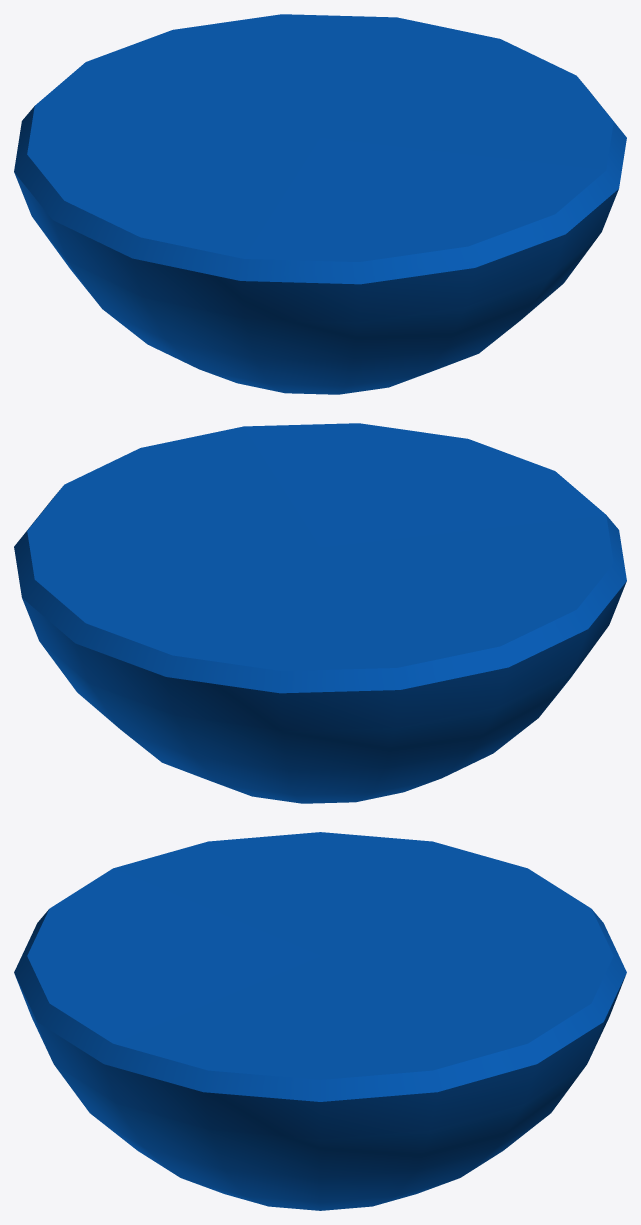
The model's file is Leg_03.fbx.
The picture shows the model from 3 angles, top to bottom: view 1: azimuth 30°, elevation 25°; view 2: azimuth 150°, elevation 25°; view 3: azimuth 270°, elevation 25°; orthographic projection.
Visible parts, largest first — view 1: Leg_03; view 2: Leg_03; view 3: Leg_03.
Boxes of the visible parts, x1,y1,x2,y2 form: Leg_03: [14, 14, 626, 394]; Leg_03: [14, 423, 626, 803]; Leg_03: [14, 832, 626, 1210].
Size of the model in its own units: 95.42 by 38.87 by 95.42.
